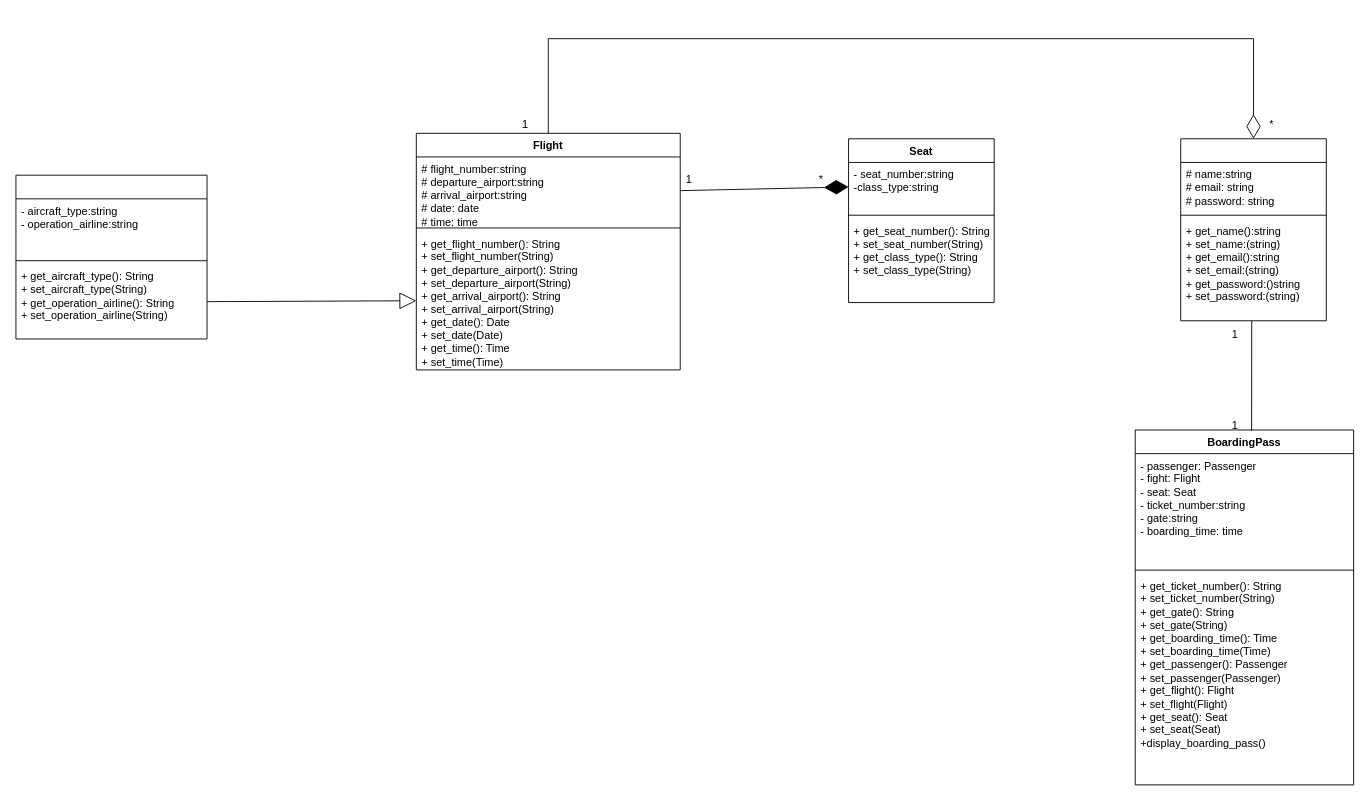
Image size: 1370x804. Some labels were removed from this diagram. The shapes that lost their labels are listed below. From the top down, each one's box as (x1, y1, x2, y2) in pixels, then its label:
(1180, 138, 1326, 321): Passenger
(15, 174, 207, 339): Domestic flight
